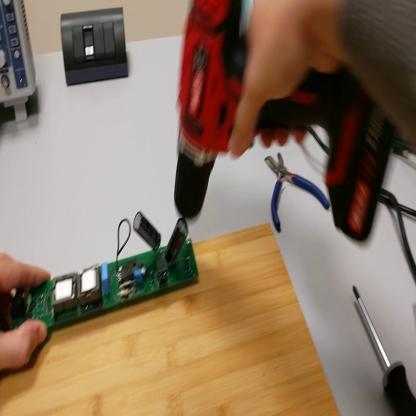electric screwdriver: (174, 3, 387, 242)
hand: (225, 2, 351, 155), (3, 255, 52, 375)
high voltage board: (3, 215, 200, 337)
oscilloscope: (1, 1, 38, 124)
pliers: (264, 153, 331, 234)
screwdriver-: (351, 282, 416, 416)
working area: (2, 224, 342, 415)
